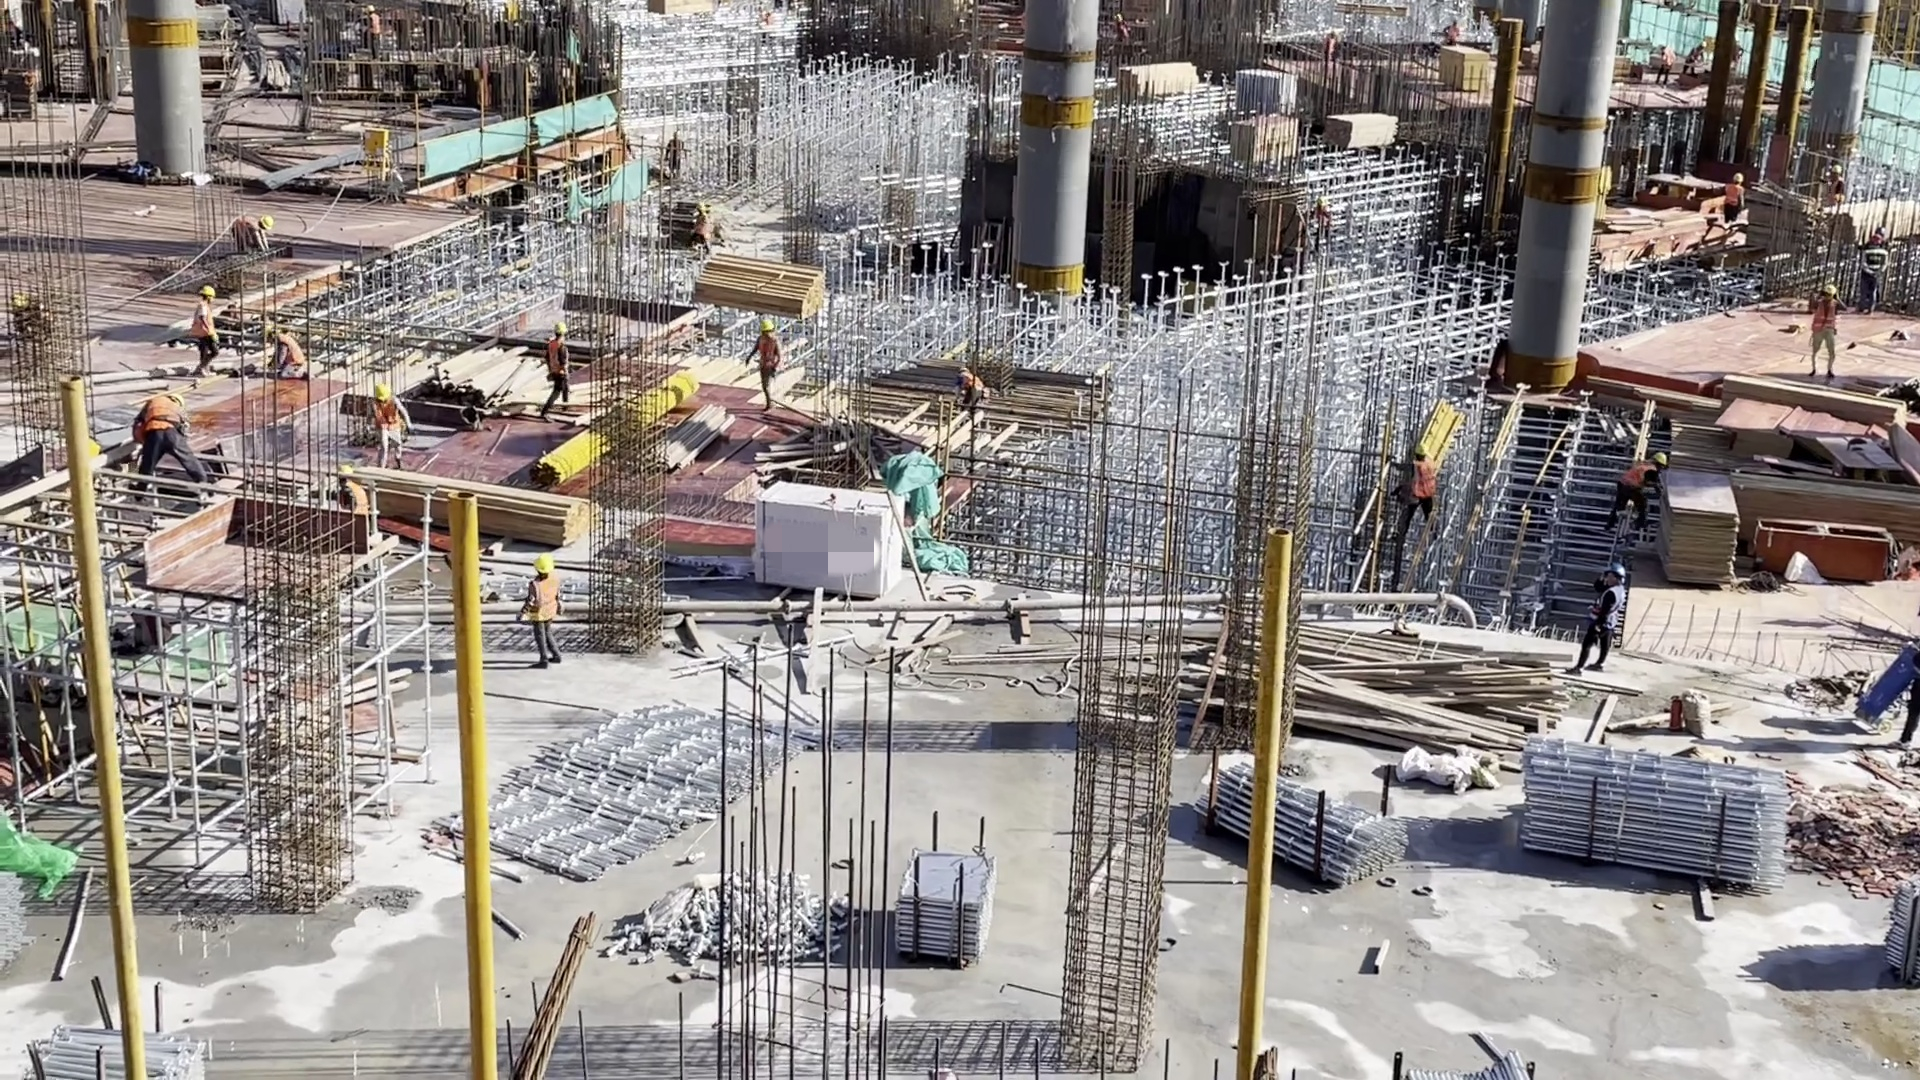helmet: (533, 555, 553, 574), (551, 321, 568, 337), (1604, 565, 1624, 578), (375, 385, 390, 401), (258, 213, 274, 228), (168, 391, 186, 404), (1413, 442, 1428, 455), (759, 319, 775, 331), (1868, 233, 1881, 248), (1822, 283, 1835, 295), (201, 286, 215, 295), (1655, 454, 1667, 464), (265, 326, 274, 338), (1732, 172, 1741, 182), (1831, 165, 1840, 174), (960, 366, 968, 375)
person: (129, 387, 215, 487), (1577, 562, 1631, 680), (514, 551, 567, 669), (1610, 452, 1670, 534), (359, 387, 413, 468), (185, 284, 229, 378), (1804, 283, 1846, 380), (745, 316, 783, 407), (541, 321, 576, 413), (265, 323, 304, 387), (1858, 225, 1885, 318), (1407, 441, 1438, 518), (232, 211, 274, 259), (13, 297, 53, 341), (956, 366, 984, 413), (662, 131, 689, 178), (360, 1, 383, 51), (1725, 170, 1745, 223), (1654, 42, 1676, 85), (1323, 28, 1342, 69), (1822, 165, 1845, 201), (1108, 15, 1133, 43), (1688, 38, 1704, 74), (755, 13, 778, 37), (1442, 18, 1461, 46)
vest: (1589, 586, 1623, 630), (140, 397, 180, 432), (529, 580, 560, 621), (1617, 461, 1655, 493), (370, 397, 401, 431), (277, 334, 304, 368), (192, 304, 215, 344), (1413, 460, 1436, 499), (1812, 298, 1835, 332), (759, 334, 779, 373), (547, 341, 565, 375), (235, 218, 256, 235), (1725, 183, 1741, 205), (1867, 251, 1882, 271), (964, 373, 980, 392)
